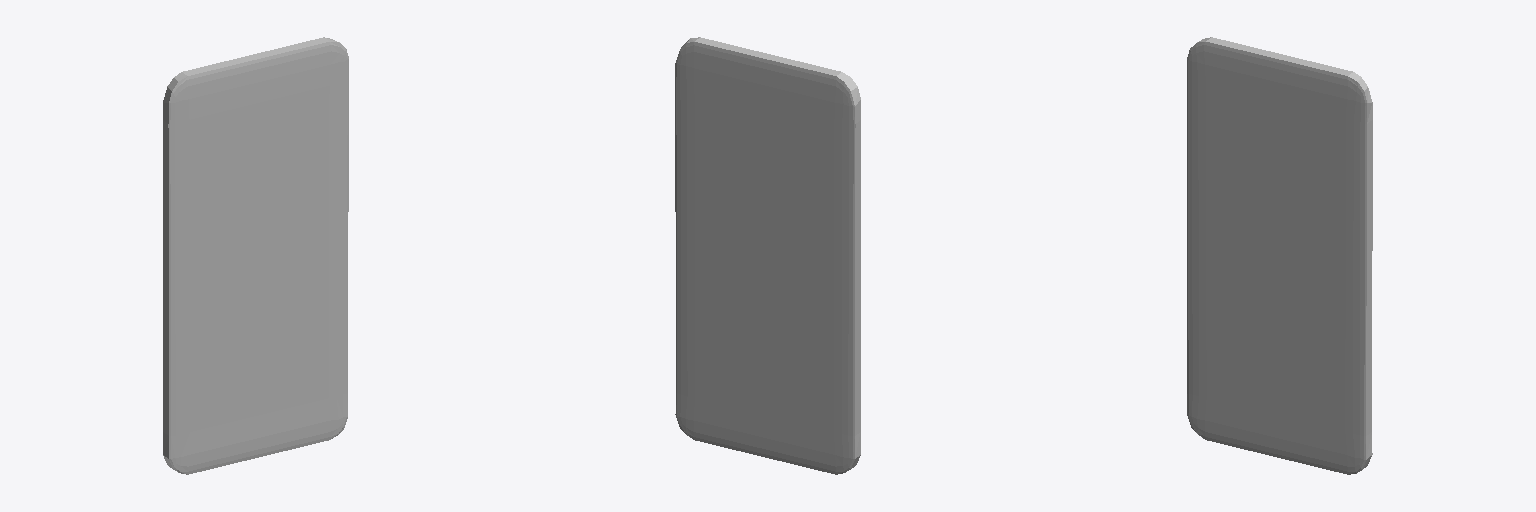
The model's file is zenfone6.obj.
3 views of the same model, side by side, from view 1: azimuth 30°, elevation 25°; view 2: azimuth 150°, elevation 25°; view 3: azimuth 330°, elevation 25° (orthographic).
Visible parts, largest first — view 1: layar_Cube; view 2: layar_Cube; view 3: layar_Cube.
Boxes of the visible parts, x1=… form: layar_Cube: x1=163, y1=37, x2=348, y2=474; layar_Cube: x1=675, y1=37, x2=860, y2=474; layar_Cube: x1=1187, y1=37, x2=1372, y2=474.
Size of the model in its own units: 0.7809 by 1.64 by 0.0568.